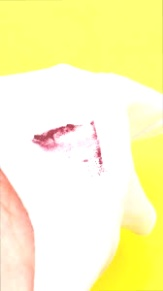lipstick: (74, 116, 107, 178), (33, 120, 82, 155)
